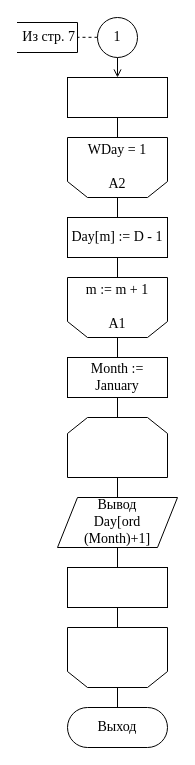
The diagram is 195 pixels wide and 765 high, and some of its shapes have lost their labels. The centre of each missing label's shape, as x and y in pixels:
"A3" belongs at point 117,657.
"A3 Month <= December" belongs at point 117,447.
"D := D + 1" belongs at point 117,97.
"Month := Succ(Month)" belongs at point 117,587.
